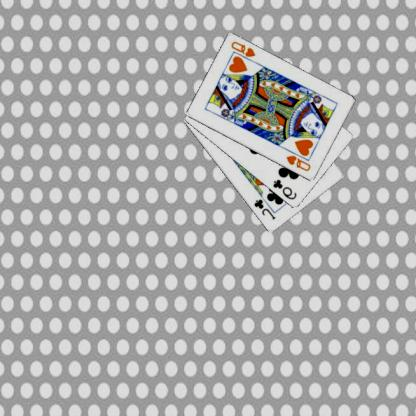6C: (272, 176, 300, 202)
JC: (252, 196, 278, 221)
QH: (230, 39, 259, 65), (285, 153, 314, 173)
